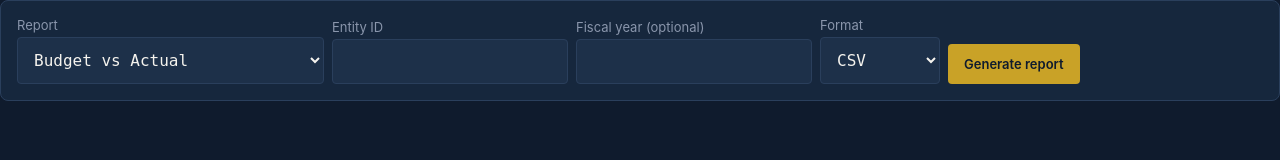
TriggerReportGenerationForm › shows a confirmation message on success
Type "ent-1" into the field labelled "Entity ID" at (450, 62), box 332,39 -> 568,84
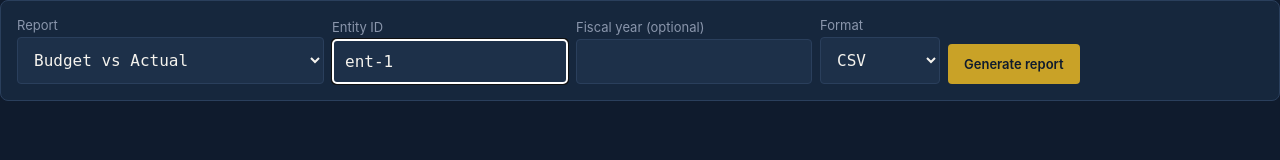
Click the button "Generate report" at (1014, 64), box 948,44 -> 1080,84
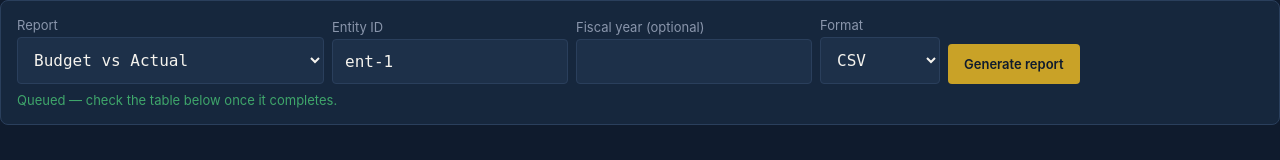
Now the text "Queued — check the table below once it completes." is shown, box 17,92 -> 337,108
